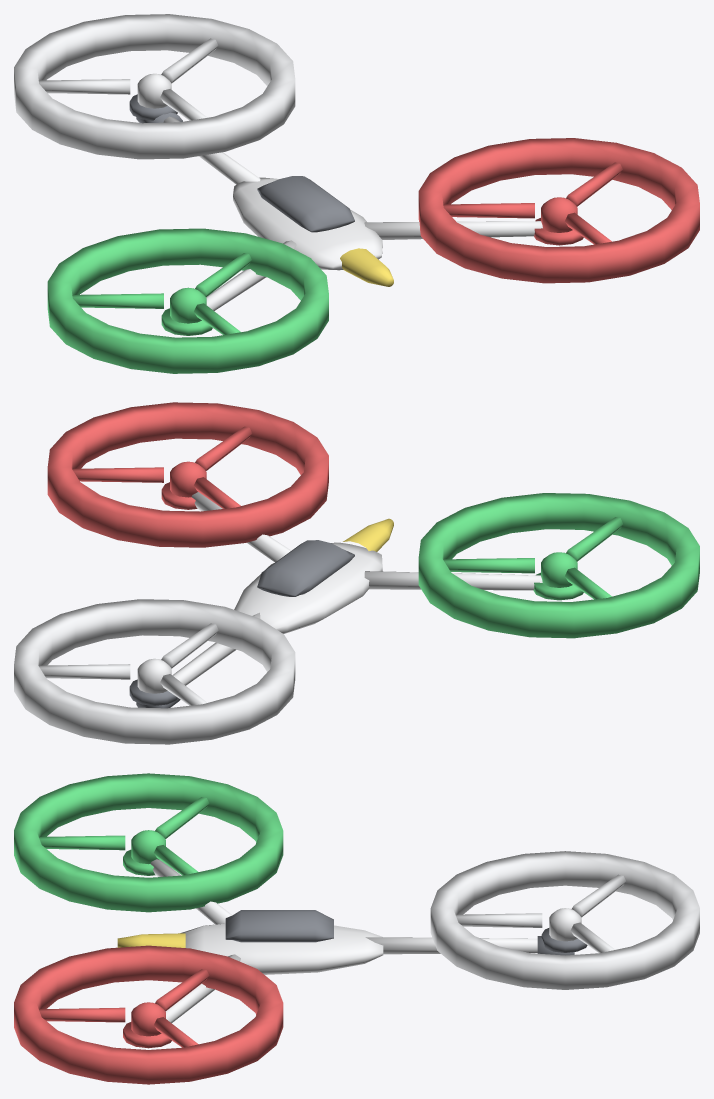
The model's file is uav-tricopter.glb.
3 views of the same model, one above another, from view 1: azimuth 30°, elevation 25°; view 2: azimuth 150°, elevation 25°; view 3: azimuth 270°, elevation 25° (orthographic). The views are drawn at different scales.
Visible parts, largest first — view 1: part0, part2, part3, part4, part1, part5; view 2: part0, part2, part3, part4, part1, part5; view 3: part2, part0, part3, part4, part1, part5.
Boxes of the visible parts, x1,y1,x2,y2 form: part0: (47,228,328,373); part2: (418,138,699,283); part3: (14,14,295,159); part4: (137,73,542,310); part1: (129,94,354,232); part5: (340,248,393,286); part0: (418,493,699,638); part2: (47,402,328,547); part3: (14,599,295,744); part4: (137,492,542,693); part1: (129,540,354,708); part5: (343,518,393,551); part2: (14,945,283,1084); part0: (14,773,283,912); part3: (430,851,699,989); part4: (150,859,581,1023); part1: (225,910,587,955); part5: (117,933,185,947).
Size of the model in its own units: 1.88 by 0.1738 by 1.91.
